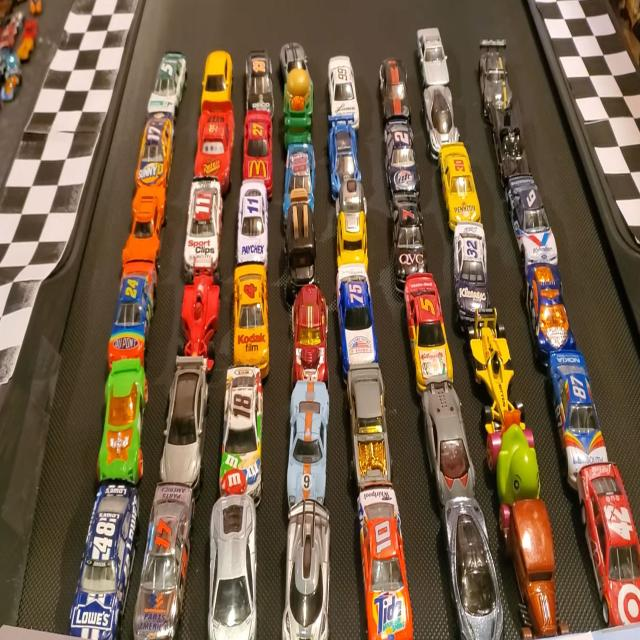Car: (208, 494, 256, 639), (160, 356, 208, 489), (404, 273, 453, 393), (287, 380, 329, 510), (233, 263, 269, 378), (338, 275, 377, 378), (291, 284, 328, 387), (284, 188, 315, 305)
